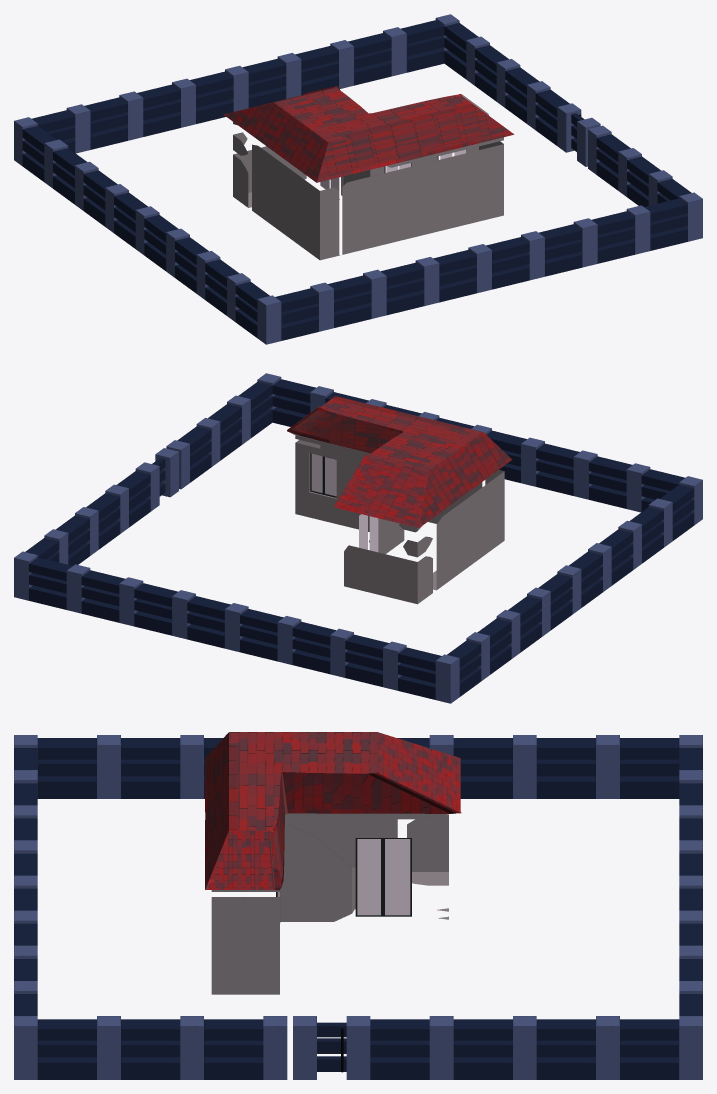
The model's file is fence1.fbx.
3 views of the same model, one above another, from view 1: azimuth 30°, elevation 25°; view 2: azimuth 150°, elevation 25°; view 3: azimuth 270°, elevation 25° (orthographic). The views are drawn at different scales.
Visible parts, largest first — view 1: Cube.008, Cube.006, walls, Cube.007, roof4, roof3, walls.001, roof5, Cube.002, Cube.003, Cube.001, Cube.024 (+4 smaller); view 2: Cube.006, Cube.007, Cube.008, walls.001, walls, roof3, roof6, roof5, roof1, Cube.024, Cube.001, Cube.022 (+6 smaller); view 3: Cube.007, walls.001, roof3, Cube.008, walls, Cube.006, Cube.001, Cube.024, Cube.002, Cube.003, Cube.022, Cube.005 (+11 smaller).
Part boxes in pixels (x1=…): Cube.008: x1=275, y1=192, x2=702, y2=340; Cube.006: x1=14, y1=20, x2=444, y2=166; walls: x1=292, y1=137, x2=503, y2=260; Cube.007: x1=22, y1=125, x2=281, y2=344; roof4: x1=316, y1=106, x2=514, y2=182; roof3: x1=274, y1=86, x2=475, y2=142; walls.001: x1=233, y1=122, x2=367, y2=239; roof5: x1=223, y1=102, x2=328, y2=182; Cube.002: x1=496, y1=59, x2=539, y2=123; Cube.003: x1=466, y1=36, x2=508, y2=101; Cube.001: x1=527, y1=81, x2=569, y2=145; Cube.024: x1=588, y1=125, x2=630, y2=190; Cube.006: x1=29, y1=557, x2=459, y2=703; Cube.007: x1=447, y1=476, x2=702, y2=696; Cube.008: x1=257, y1=373, x2=685, y2=512; walls.001: x1=344, y1=491, x2=477, y2=604; walls: x1=295, y1=435, x2=504, y2=560; roof3: x1=318, y1=396, x2=482, y2=471; roof6: x1=334, y1=455, x2=428, y2=527; roof5: x1=419, y1=432, x2=512, y2=527; roof1: x1=289, y1=407, x2=402, y2=453; Cube.024: x1=166, y1=426, x2=211, y2=489; Cube.001: x1=105, y1=471, x2=150, y2=533; Cube.022: x1=227, y1=382, x2=272, y2=444; Cube.007: x1=14, y1=735, x2=679, y2=798; walls.001: x1=286, y1=814, x2=448, y2=921; roof3: x1=229, y1=732, x2=378, y2=831; Cube.008: x1=14, y1=748, x2=37, y2=1079; walls: x1=211, y1=814, x2=286, y2=994; Cube.006: x1=679, y1=735, x2=702, y2=1015; Cube.001: x1=370, y1=1016, x2=453, y2=1079; Cube.024: x1=204, y1=1016, x2=287, y2=1079; Cube.002: x1=453, y1=1016, x2=536, y2=1079; Cube.003: x1=536, y1=1016, x2=619, y2=1079; Cube.022: x1=37, y1=1016, x2=120, y2=1079; Cube.005: x1=620, y1=1016, x2=702, y2=1079.
Size of the model in its own units: 3480 by 847 by 3480.
